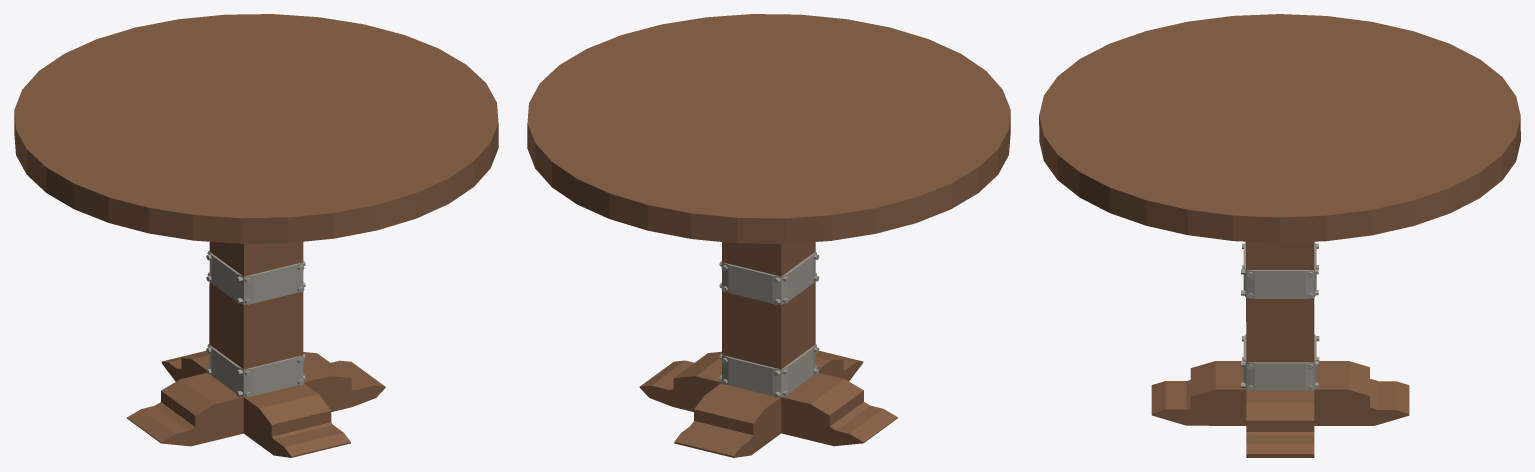
Rendered from LowPolyTable.glb.
3 renders of one model, left to right at view 1: azimuth 30°, elevation 25°; view 2: azimuth 150°, elevation 25°; view 3: azimuth 270°, elevation 25°, orthographic.
Parts seen in each view (by area): view 1: Cylinder.001; view 2: Cylinder.001; view 3: Cylinder.001.
Boxes of the visible parts, x1,y1,x2,y2 form: Cylinder.001: (14, 14, 498, 457); Cylinder.001: (527, 14, 1010, 457); Cylinder.001: (1039, 14, 1520, 457).
Bounding box in the file's own units: 1.29 × 0.8762 × 1.29.
